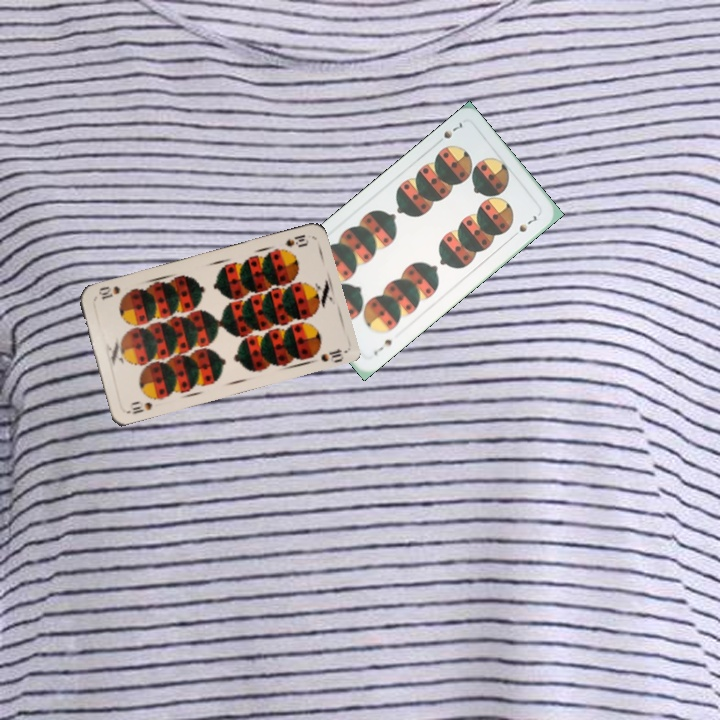S10: (280, 230, 311, 250), (128, 398, 155, 417)
S7: (432, 118, 465, 148), (369, 335, 394, 358)
